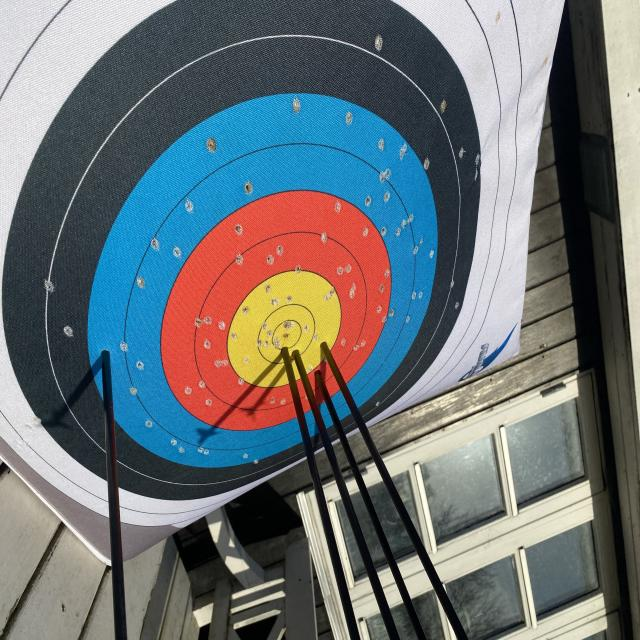Arrow_Blue: (90, 334, 123, 378)
Arrow_Red: (312, 364, 331, 389)
Arrow_Yellow: (314, 331, 332, 362), (292, 342, 304, 374), (280, 341, 292, 369)
